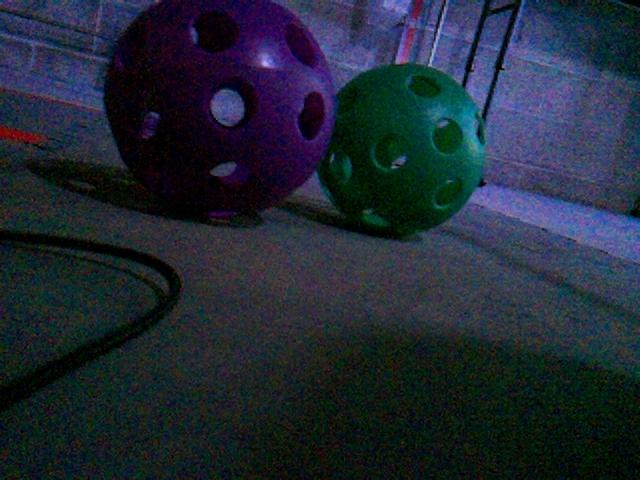Green: (318, 59, 489, 239)
Purple: (100, 1, 337, 225)
